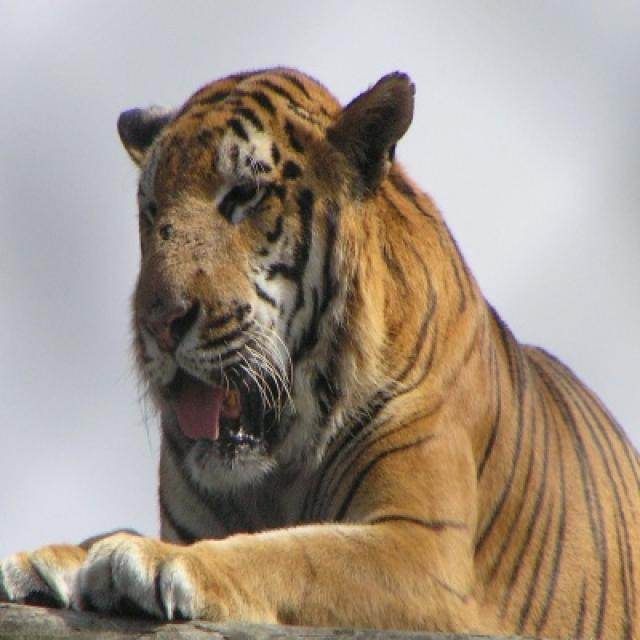Tiger: (21, 60, 638, 630)
